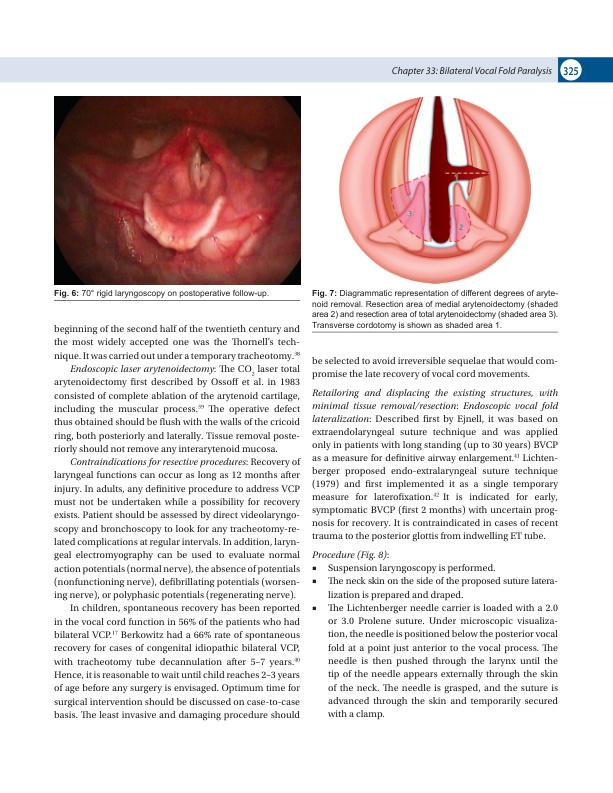caption: (311, 288, 559, 331), (53, 289, 270, 299)
header: (391, 66, 552, 77)
image: (54, 95, 301, 285), (327, 90, 545, 287)
list: (311, 563, 559, 721)
text: (53, 323, 301, 722), (311, 355, 558, 561)
